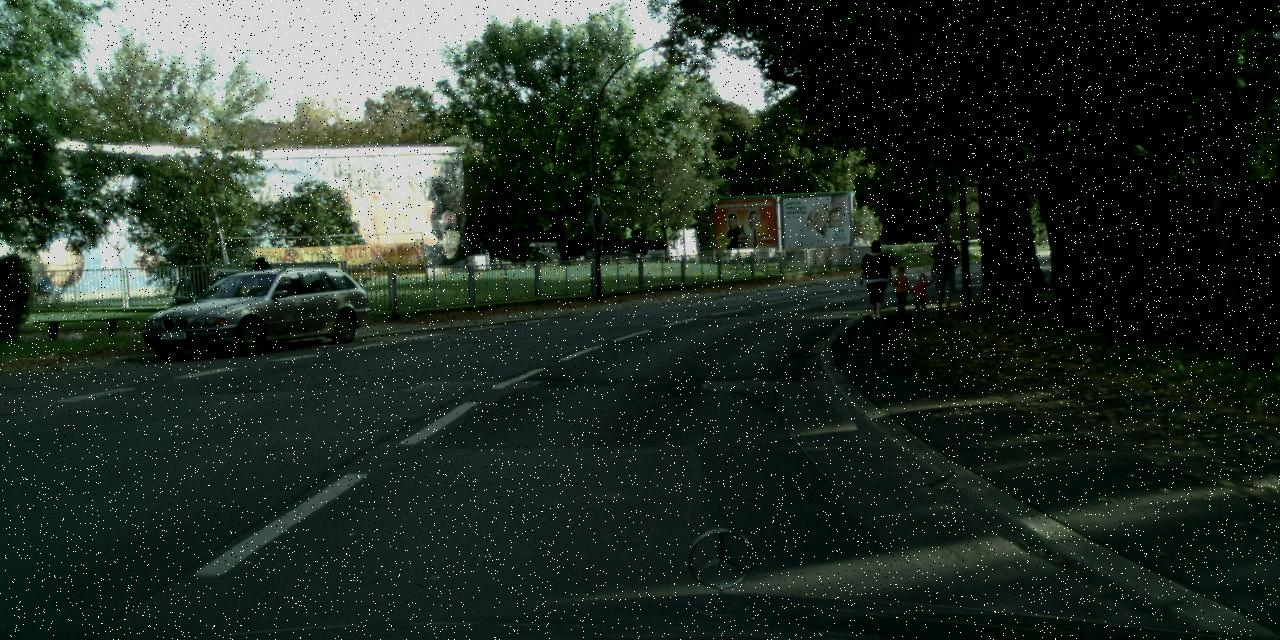ped: (925, 230, 960, 315), (860, 238, 892, 318), (252, 256, 282, 330), (890, 266, 910, 317), (911, 272, 930, 318)
